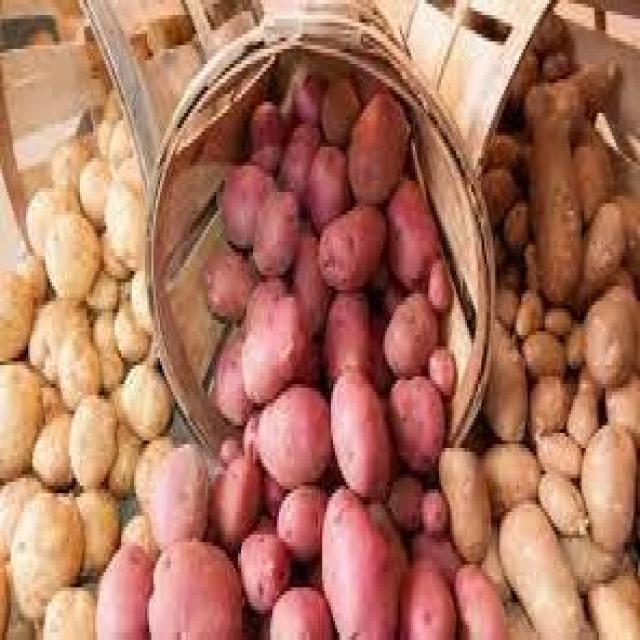potato: (6, 489, 84, 625), (577, 418, 640, 557), (41, 211, 102, 309), (0, 358, 48, 470), (104, 166, 158, 260), (22, 184, 86, 260), (71, 392, 119, 489), (76, 478, 119, 569), (123, 365, 173, 441), (28, 298, 87, 362), (0, 268, 37, 362), (28, 422, 78, 486), (58, 335, 98, 403), (54, 136, 95, 196), (76, 154, 119, 211), (100, 113, 140, 169), (115, 294, 149, 358), (82, 256, 119, 312)
